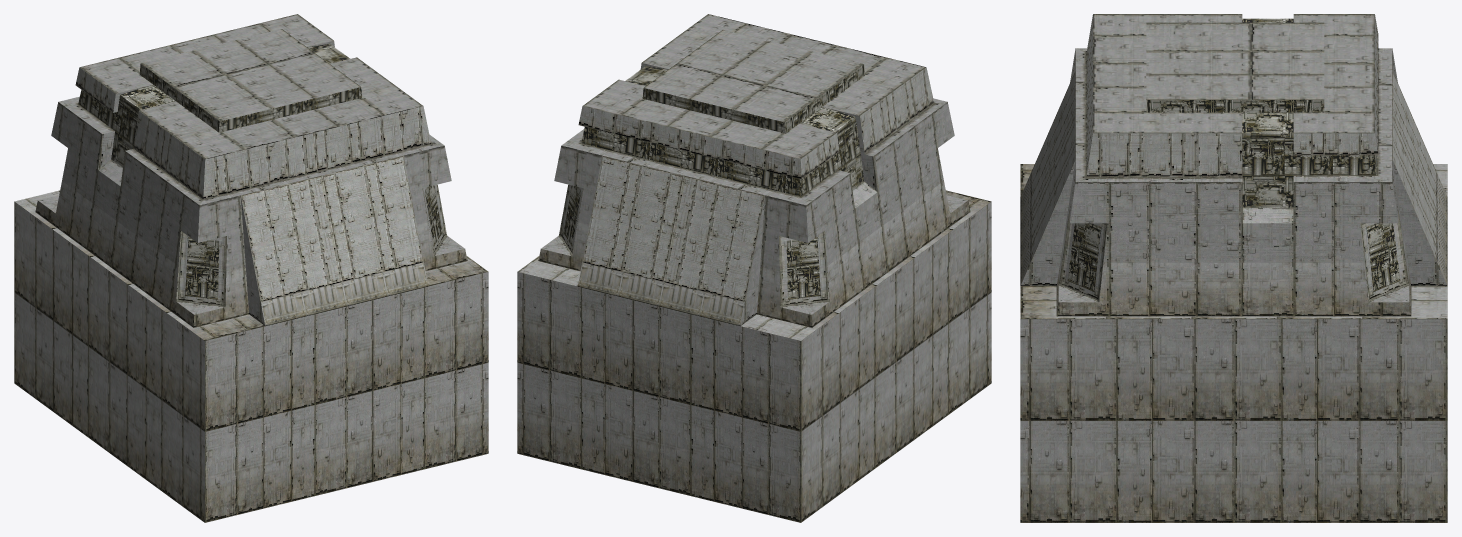
File: ins_all_def_turret_lg_s01_l1.fbx
3 renders of one model, left to right at view 1: azimuth 30°, elevation 25°; view 2: azimuth 150°, elevation 25°; view 3: azimuth 270°, elevation 25°, orthographic. The views are drawn at different scales.
Parts seen in each view (by area): view 1: mesh_node; view 2: mesh_node; view 3: mesh_node.
Part boxes in pixels (left/top/right/bottom): mesh_node: left=14, top=14, right=488, bottom=522; mesh_node: left=517, top=14, right=991, bottom=522; mesh_node: left=1020, top=14, right=1447, bottom=522.
Bounding box in the file's own units: 4.89 × 5.65 × 5.7.
